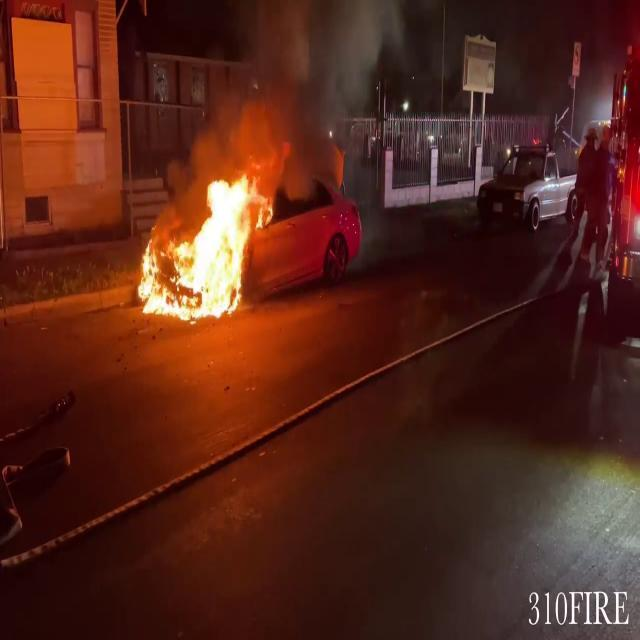Fire: (134, 165, 268, 322)
Smoke: (196, 0, 398, 154)
